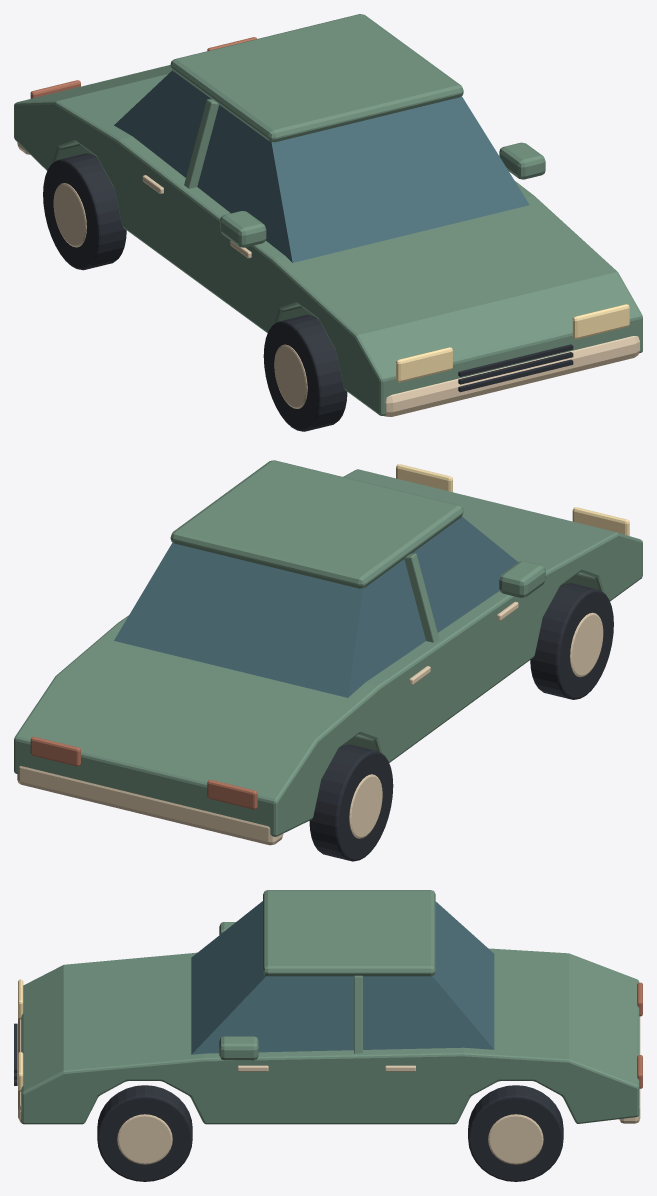
File: car-realistic.glb
The picture shows the model from 3 angles, top to bottom: view 1: azimuth 30°, elevation 25°; view 2: azimuth 150°, elevation 25°; view 3: azimuth 270°, elevation 25°; orthographic projection. The views are drawn at different scales.
Parts seen in each view (by area): view 1: car-realistic; view 2: car-realistic; view 3: car-realistic.
Part boxes in pixels (left/top/right/bottom): car-realistic: left=14, top=14, right=642, bottom=431; car-realistic: left=14, top=460, right=642, bottom=861; car-realistic: left=14, top=890, right=642, bottom=1181.
Size of the model in its own units: 2.12 by 1.52 by 4.48.
